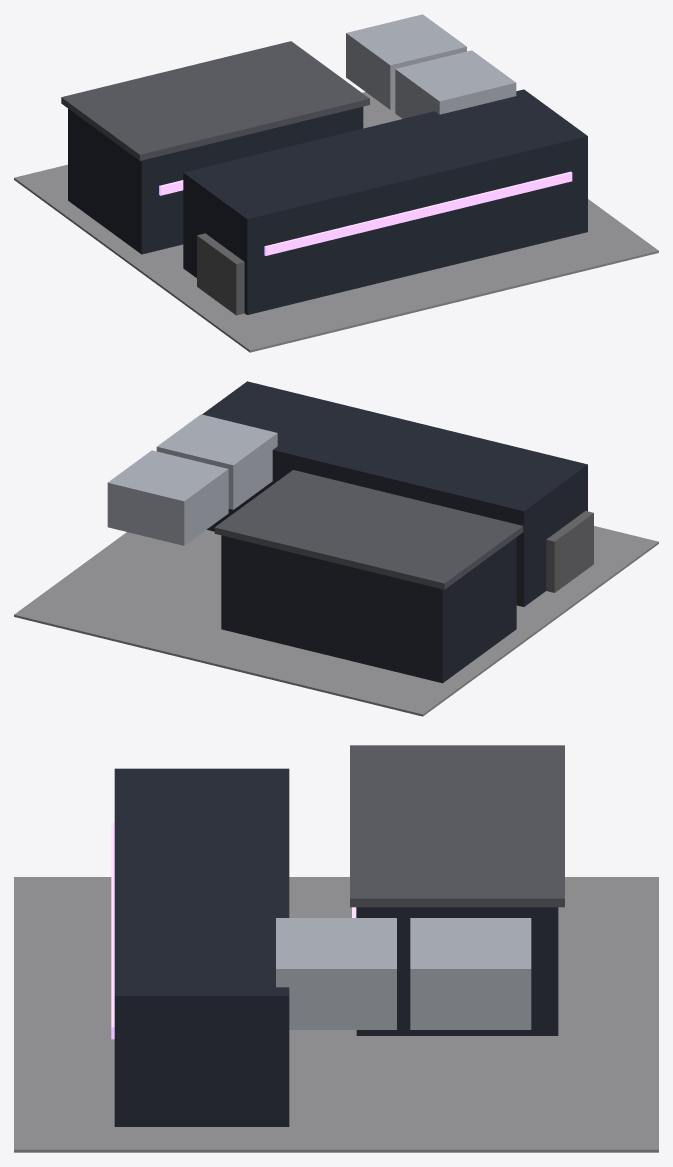
Rendered from ai_campus.glb.
3 renders of one model, top to bottom at view 1: azimuth 30°, elevation 25°; view 2: azimuth 150°, elevation 25°; view 3: azimuth 270°, elevation 25°, orthographic. The views are drawn at different scales.
Parts seen in each view (by area): view 1: HallB, Pad, RoofA, HallA, Cool1, Cool2, StripB, Sub; view 2: Pad, HallB, HallA, RoofA, Cool1, Cool2, Sub; view 3: Pad, HallB, RoofA, Cool1, Cool2, HallA, StripB.
Part boxes in pixels (x1=…): HallB: x1=183, y1=89, x2=587, y2=314; Pad: x1=14, y1=92, x2=658, y2=352; RoofA: x1=61, y1=41, x2=369, y2=160; HallA: x1=68, y1=106, x2=363, y2=254; Cool1: x1=346, y1=14, x2=466, y2=109; Cool2: x1=395, y1=50, x2=516, y2=118; StripB: x1=264, y1=171, x2=572, y2=255; Sub: x1=197, y1=233, x2=244, y2=315; Pad: x1=14, y1=526, x2=658, y2=716; HallB: x1=202, y1=381, x2=587, y2=606; HallA: x1=221, y1=535, x2=516, y2=683; RoofA: x1=214, y1=470, x2=523, y2=589; Cool1: x1=107, y1=450, x2=228, y2=545; Cool2: x1=156, y1=414, x2=277, y2=509; Sub: x1=546, y1=511, x2=593, y2=592; Pad: x1=14, y1=877, x2=658, y2=1152; HallB: x1=114, y1=768, x2=289, y2=1126; RoofA: x1=350, y1=745, x2=564, y2=907; Cool1: x1=410, y1=918, x2=531, y2=1029; Cool2: x1=276, y1=918, x2=396, y2=1029; HallA: x1=356, y1=907, x2=558, y2=1035; StripB: x1=111, y1=822, x2=114, y2=1039.
Size of the model in its own units: 4.8 by 1.25 by 4.8.
